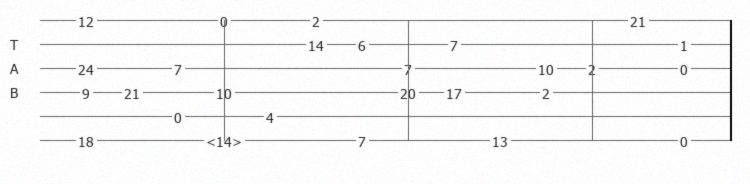0: (174, 109, 186, 123), (220, 13, 232, 27), (680, 133, 692, 147), (680, 61, 692, 75)
1: (680, 37, 692, 51)
10: (216, 85, 236, 99), (538, 61, 558, 75)
12: (78, 13, 98, 27)
13: (492, 133, 512, 147)
14: (308, 37, 328, 51)
17: (446, 85, 466, 99)
18: (78, 133, 98, 147)
2: (312, 13, 324, 27), (542, 85, 554, 99), (588, 61, 600, 75)
20: (400, 85, 420, 99)
21: (124, 85, 144, 99), (630, 13, 650, 27)
24: (78, 61, 98, 75)
4: (266, 109, 278, 123)
6: (358, 37, 370, 51)
7: (174, 61, 186, 75), (358, 133, 370, 147), (404, 61, 416, 75), (450, 37, 462, 51)
9: (82, 85, 94, 99)
harmonic: (206, 133, 246, 147)
